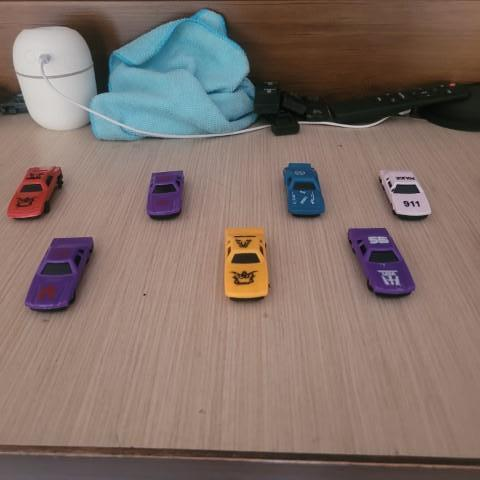car: (346, 227, 418, 300), (22, 238, 95, 310), (221, 222, 273, 300), (378, 165, 433, 221), (7, 165, 63, 220), (282, 162, 327, 218), (146, 169, 187, 220)
